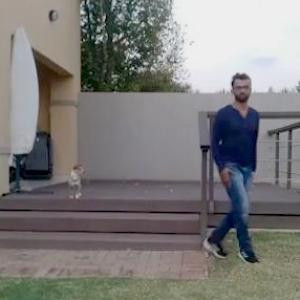follow: (199, 65, 264, 277)
